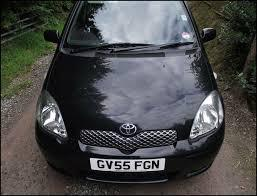bonnet-dent: (93, 71, 189, 134)
